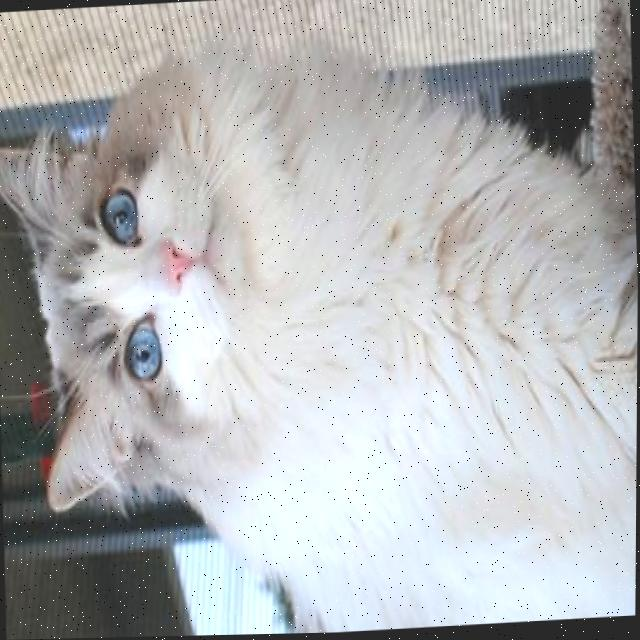Ragdoll: (0, 6, 640, 640)
